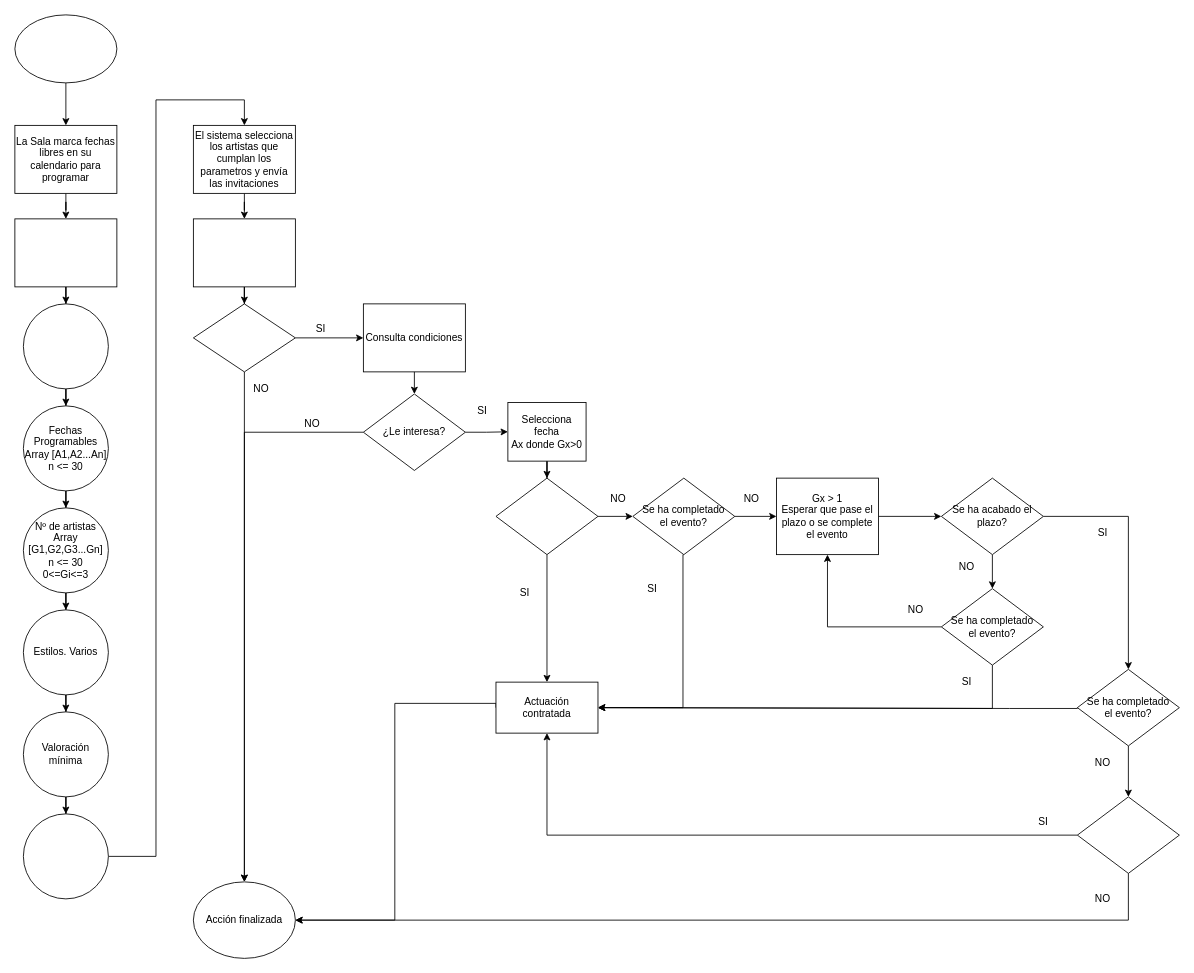
Image size: 1194x973. Some labels were removed from this diagram. Here are the shapes that lost their labels. From the top down, the box of each, then its label:
(14, 14, 117, 83): Contratación Expréx
(14, 218, 117, 287): Selecciona los parametros para enviar invitaciones
(193, 218, 295, 287): El artista recibe la invitación y consulta condiciones
(23, 303, 108, 389): Fecha inicial (X). Fecha final (Y <= X+30 )
(193, 303, 295, 372): Quedan fechas libres?
(495, 477, 598, 555): Gx = 1?
(1077, 796, 1179, 873): Les interesa a las partes?
(23, 813, 108, 899): Distancia geográfica
